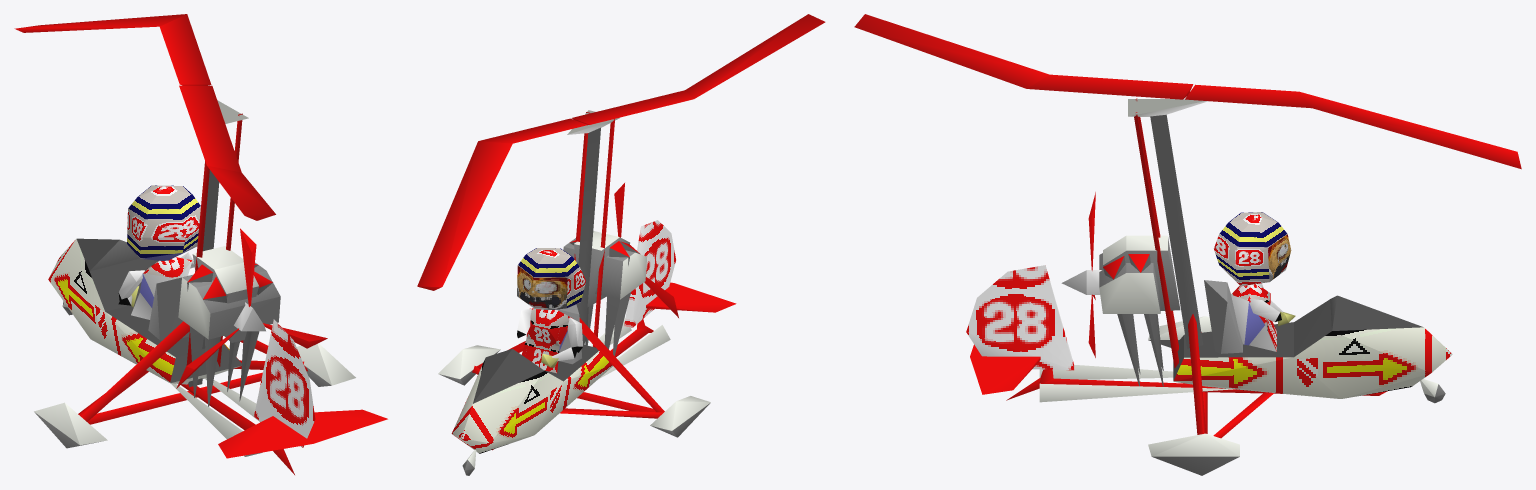
Rendered from uvmd-0305.glb.
3 views of the same model, side by side, from view 1: azimuth 30°, elevation 25°; view 2: azimuth 150°, elevation 25°; view 3: azimuth 270°, elevation 25° (orthographic). The views are drawn at different scales.
Visible parts, largest first — view 1: uvmd-0305; view 2: uvmd-0305; view 3: uvmd-0305.
Boxes of the visible parts, x1,y1,x2,y2 form: uvmd-0305: [14, 14, 387, 474]; uvmd-0305: [417, 14, 825, 475]; uvmd-0305: [854, 14, 1521, 475].
Size of the model in its own units: 169 by 211 by 370.
Materials: 6 (6 with a texture image).
